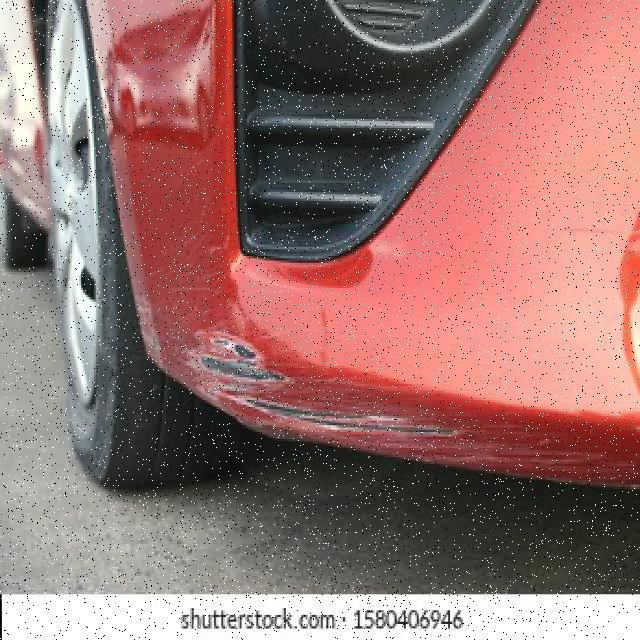hood: (57, 172, 638, 467)
